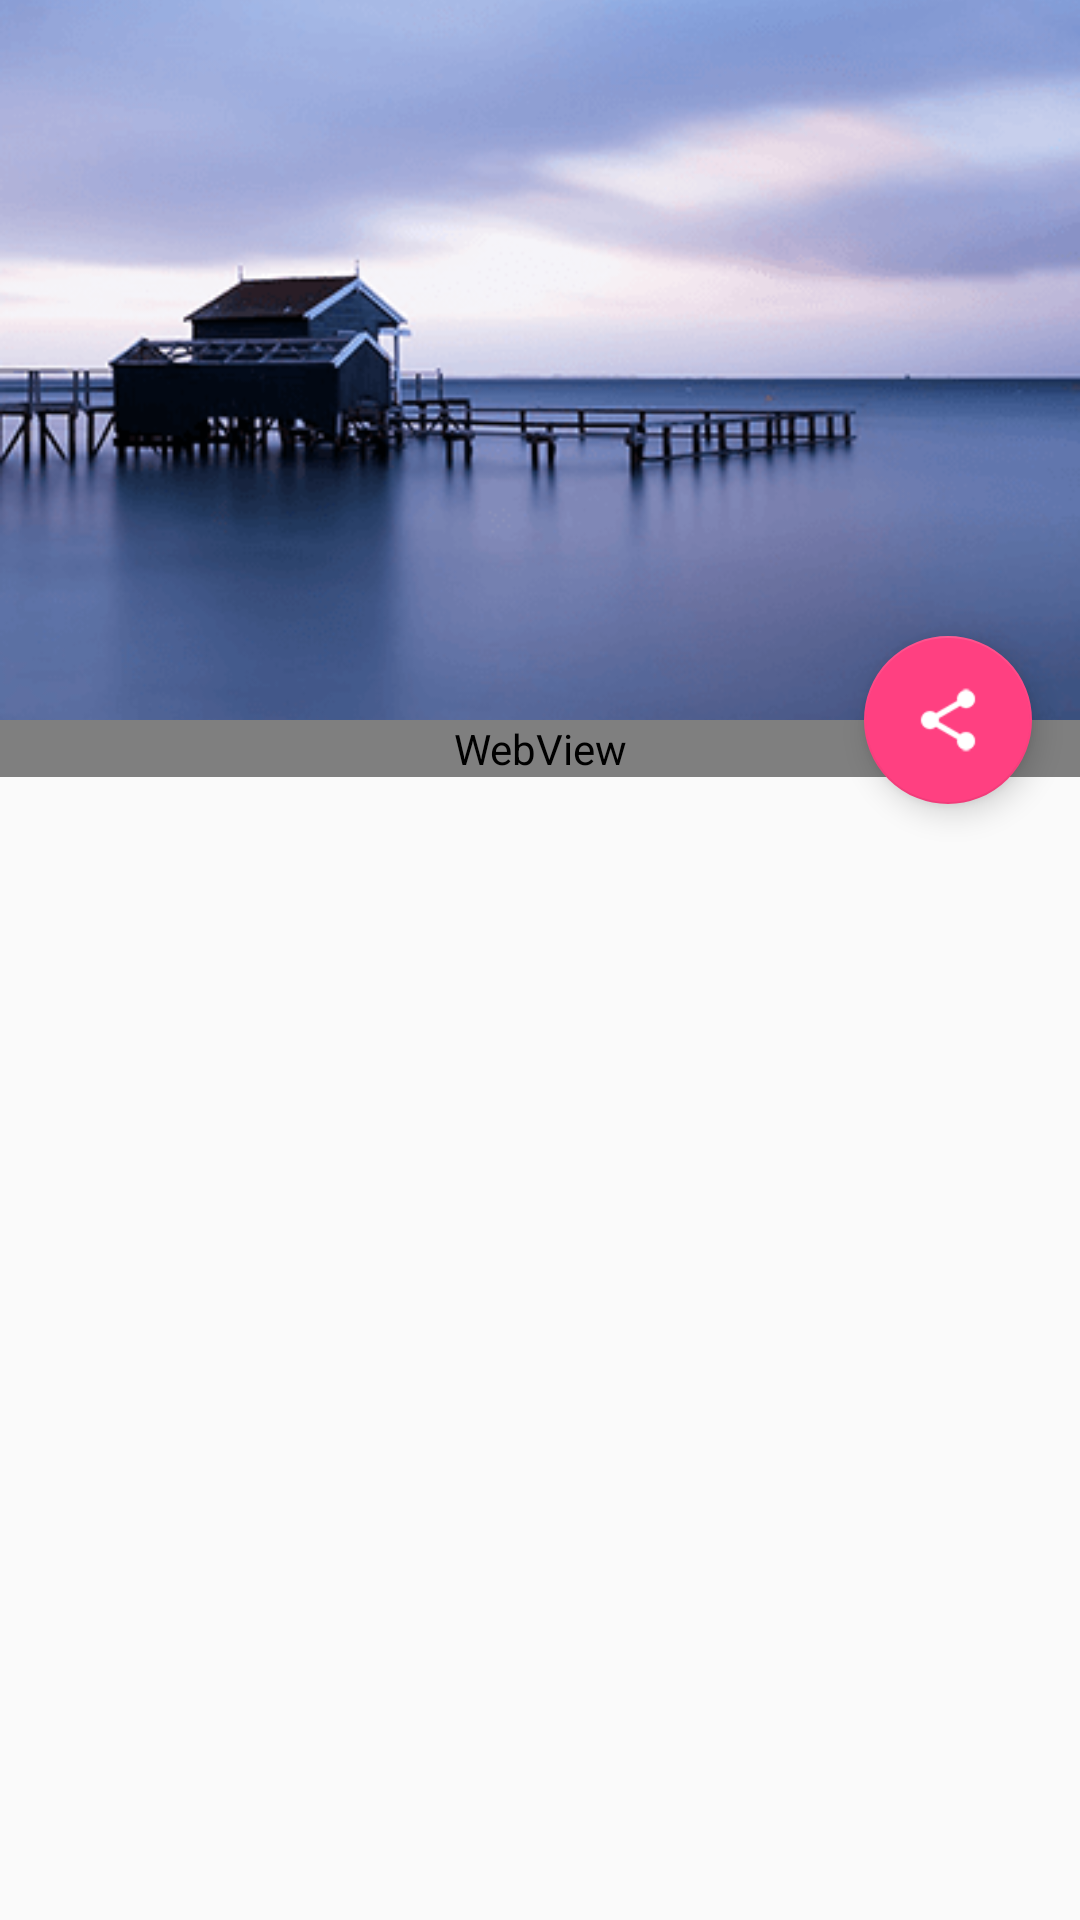

Icons on this 1080 x 1920 Android screen, each with the point to tap as (x=x, y=y):
share: (x=948, y=720)
